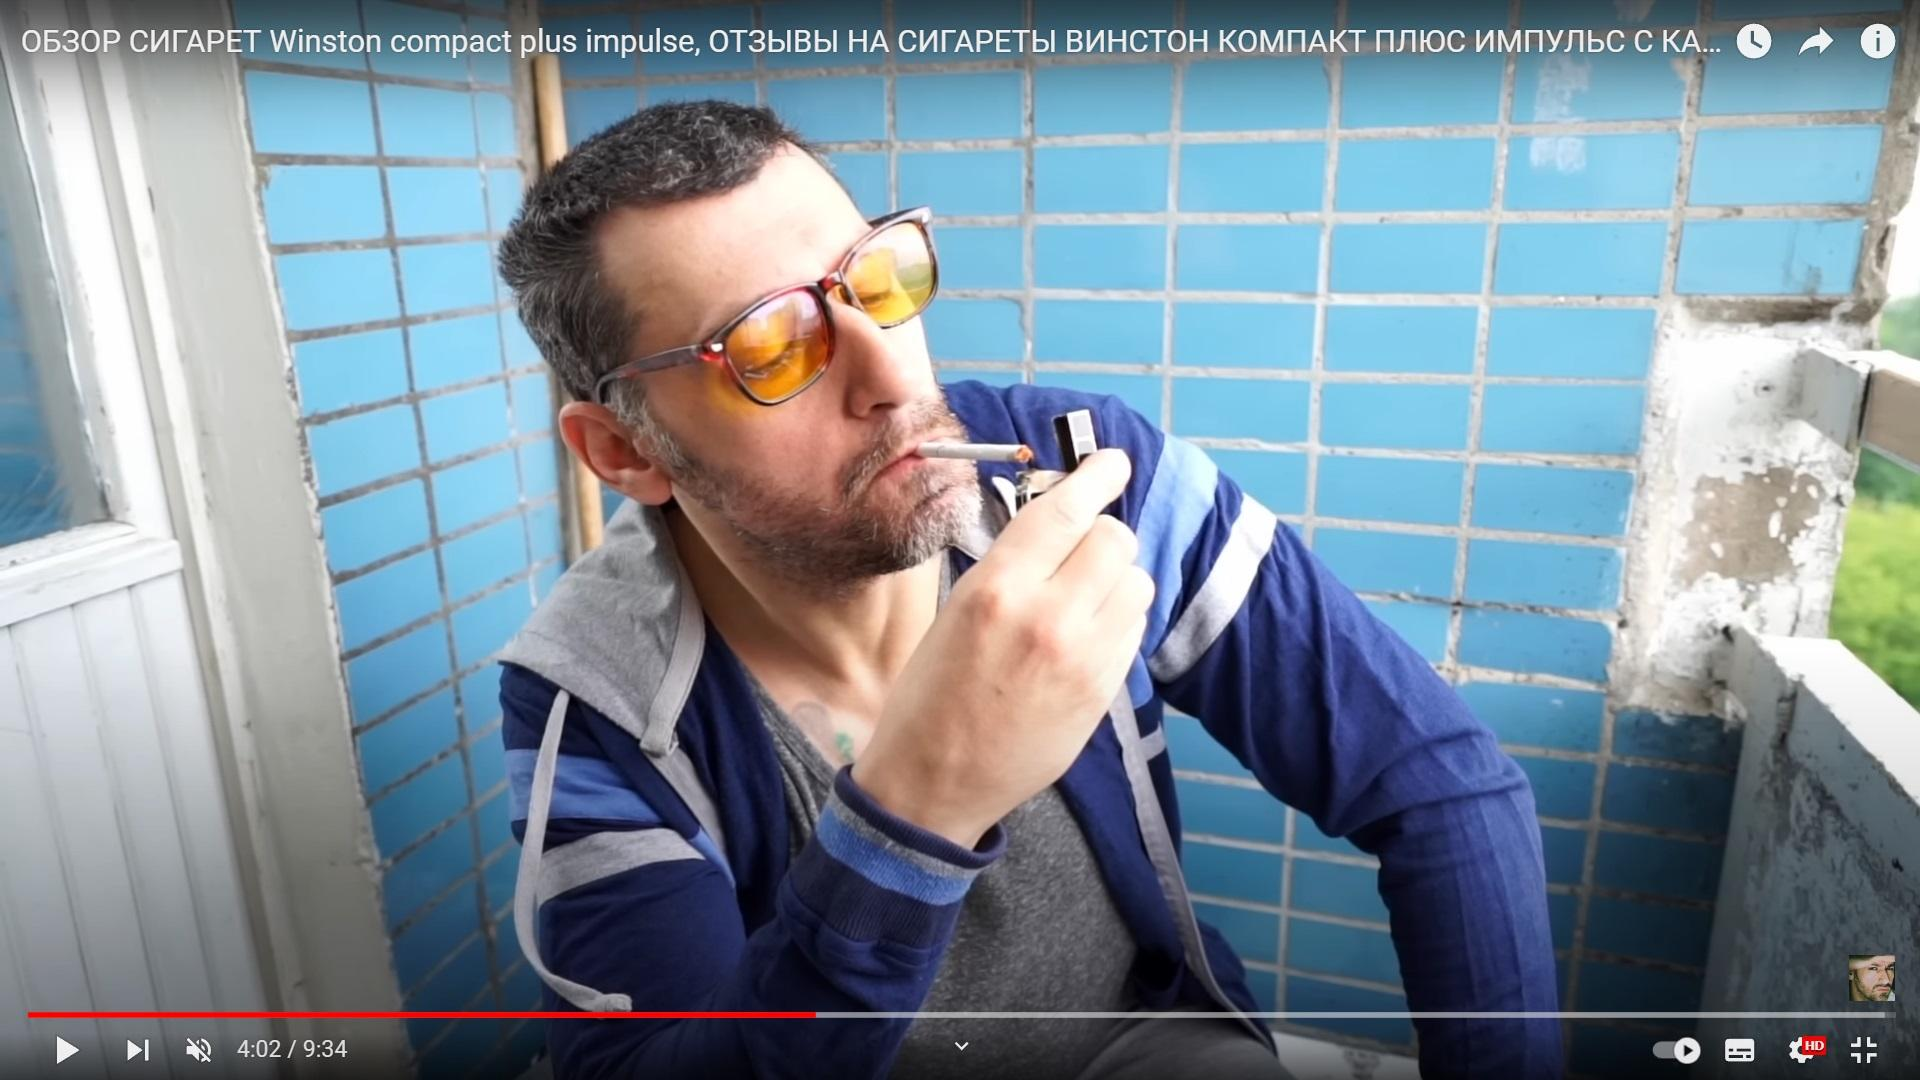cigarette: (911, 442, 1033, 463)
